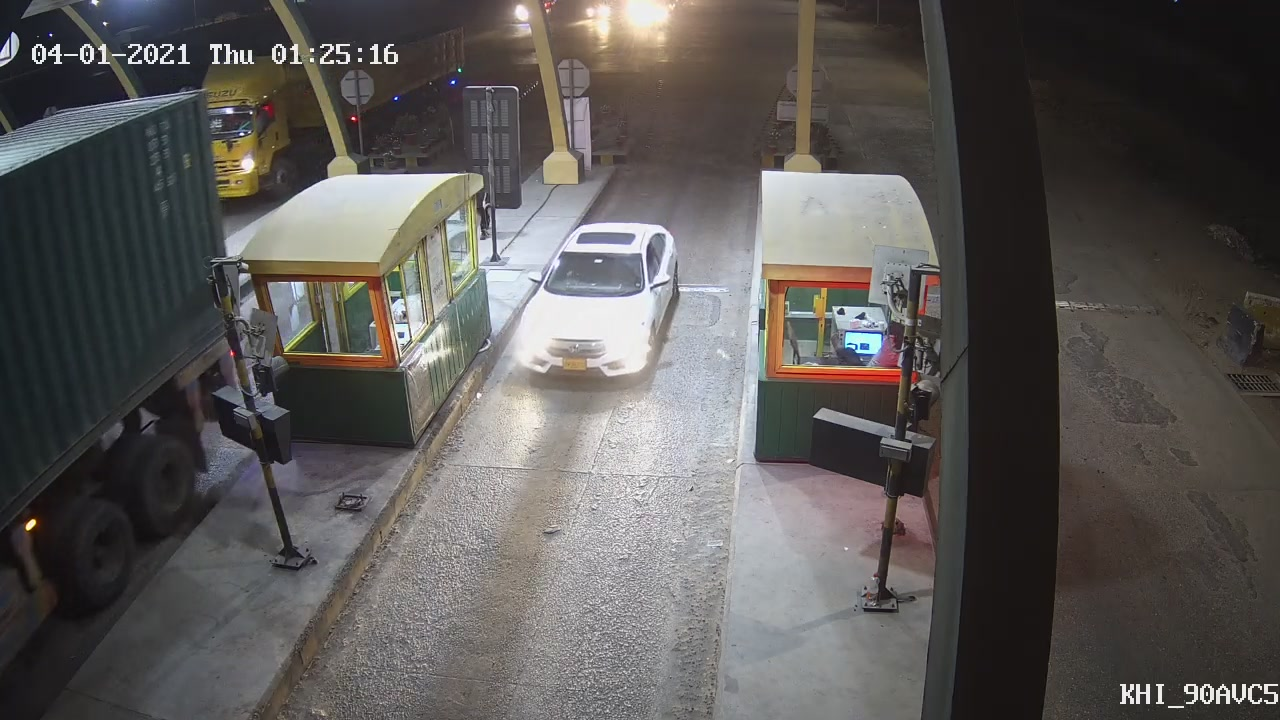F1: (514, 217, 681, 382)
